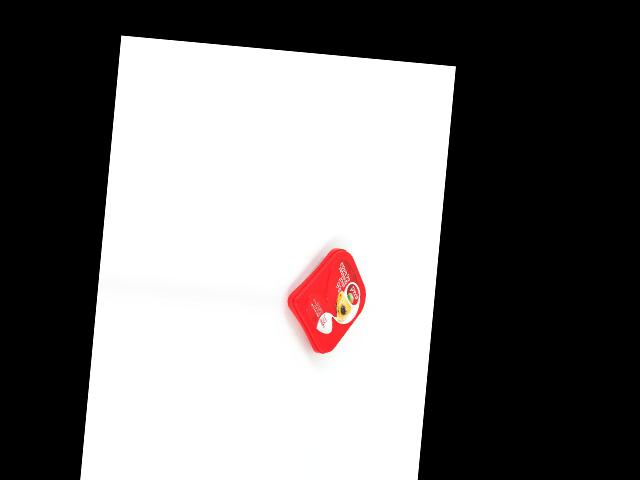cheese: (282, 244, 370, 357)
